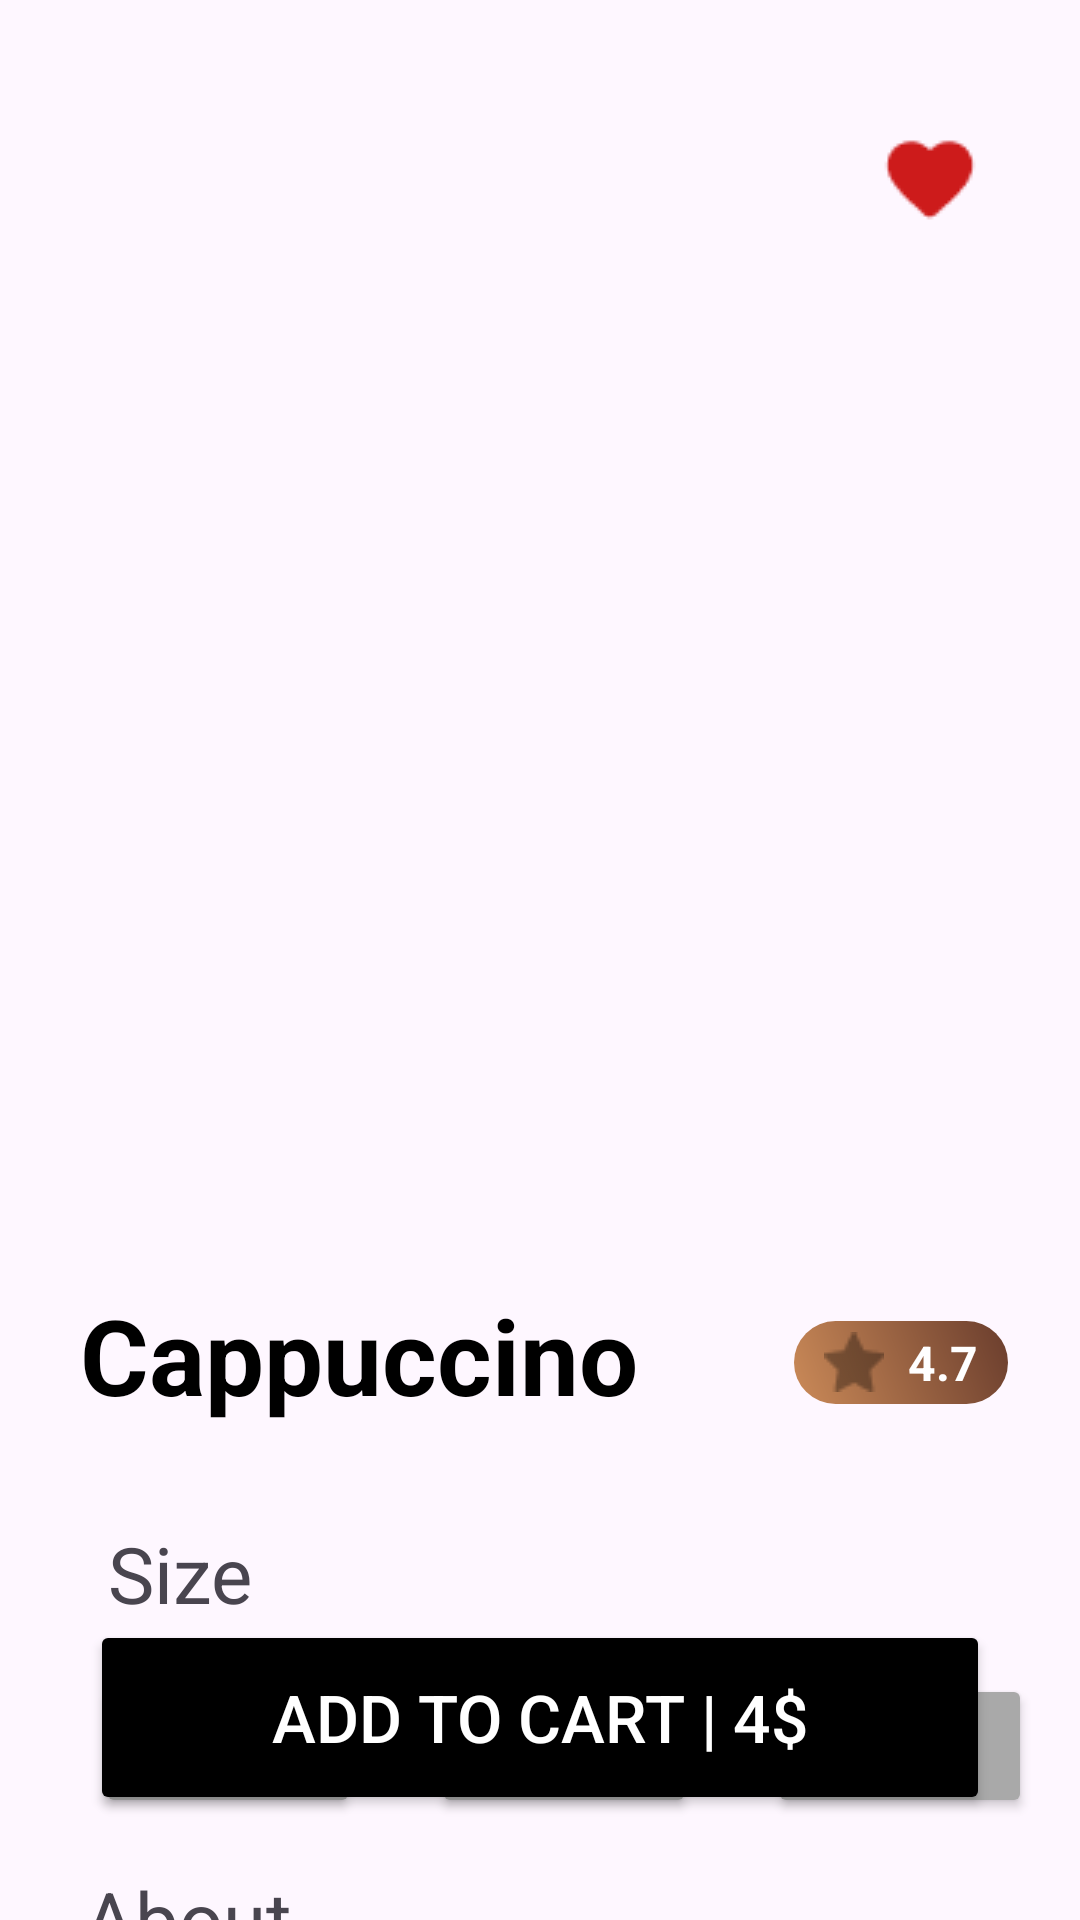

Where icons sit on this 1080 × 1920 app screen, as (x1, y1, x2, y2):
favorite: (886, 140, 974, 219)
Star icon: (824, 1332, 884, 1392)
